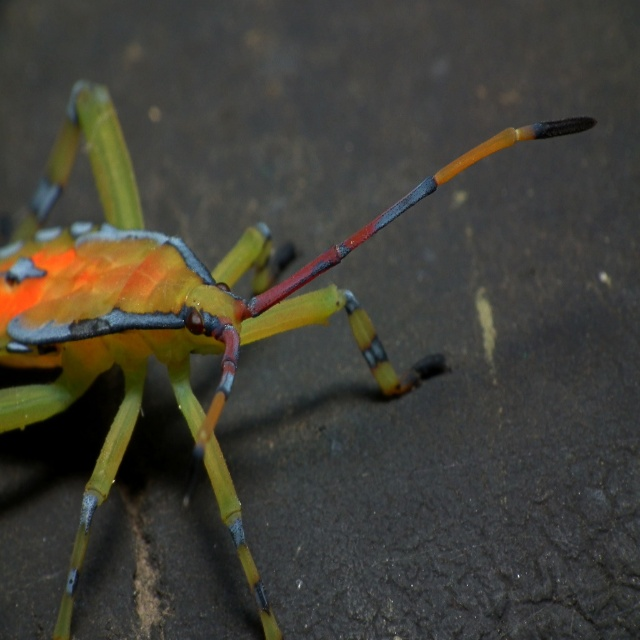Crab: (0, 78, 600, 639)
